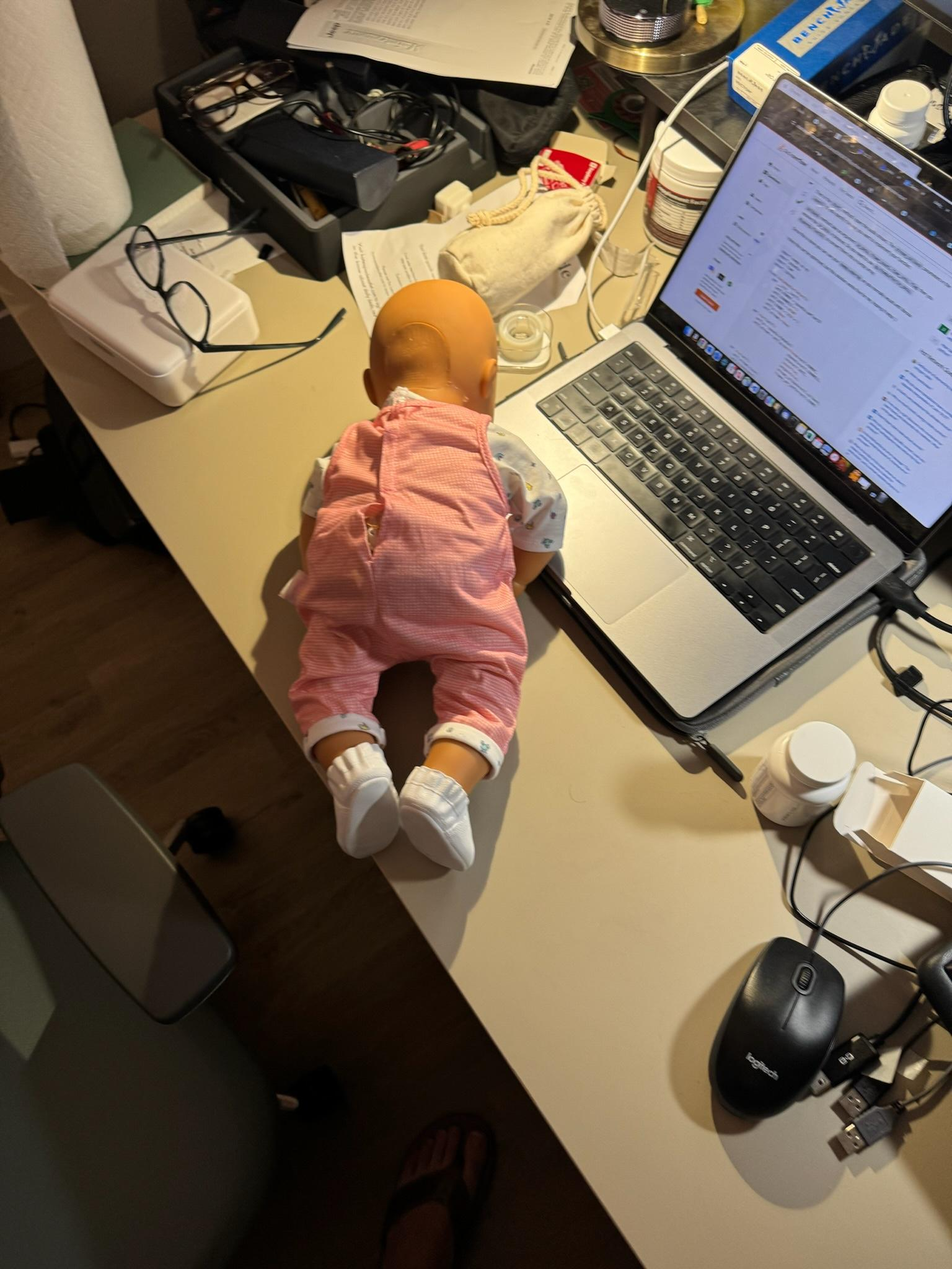baby: (252, 271, 574, 890)
